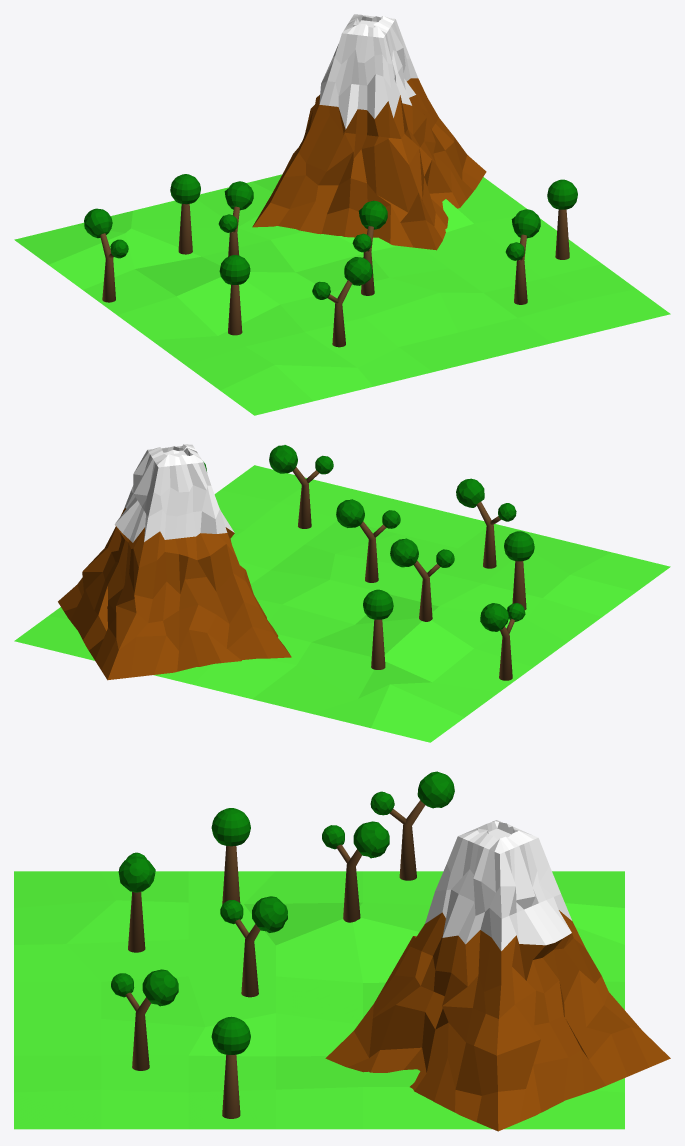
The picture shows the model from 3 angles, top to bottom: view 1: azimuth 30°, elevation 25°; view 2: azimuth 150°, elevation 25°; view 3: azimuth 270°, elevation 25°; orthographic projection. The views are drawn at different scales.
Parts seen in each view (by area): view 1: Plane, Cube, Cylinder.003, Cylinder, Cylinder.006, Cylinder.004, Cylinder.001, Cylinder.005, Cylinder.007, Cylinder.002; view 2: Plane, Cube, Cylinder.006, Cylinder.007, Cylinder.003, Cylinder.002, Cylinder, Cylinder.001, Cylinder.004; view 3: Plane, Cube, Cylinder, Cylinder.006, Cylinder.007, Cylinder.002, Cylinder.005, Cylinder.004, Cylinder.003.
Part boxes in pixels (x1,y1,x2,y2): Plane: [14, 174, 670, 415]; Cube: [252, 14, 486, 250]; Cylinder.003: [312, 257, 372, 347]; Cylinder: [84, 208, 128, 302]; Cylinder.006: [505, 209, 540, 304]; Cylinder.004: [219, 255, 250, 335]; Cylinder.001: [170, 174, 200, 254]; Cylinder.005: [547, 179, 577, 259]; Cylinder.007: [352, 200, 387, 295]; Cylinder.002: [218, 181, 253, 256]; Plane: [14, 465, 670, 742]; Cube: [58, 444, 291, 680]; Cylinder.006: [269, 445, 333, 528]; Cylinder.007: [336, 499, 400, 582]; Cylinder.003: [456, 478, 516, 568]; Cylinder.002: [390, 538, 454, 621]; Cylinder: [480, 603, 525, 680]; Cylinder.001: [363, 589, 393, 669]; Cylinder.004: [504, 531, 534, 610]; Plane: [14, 871, 624, 1129]; Cube: [325, 820, 670, 1131]; Cylinder: [370, 771, 454, 880]; Cylinder.006: [111, 969, 178, 1070]; Cylinder.007: [220, 896, 287, 997]; Cylinder.002: [322, 821, 389, 922]; Cylinder.005: [211, 1016, 250, 1118]; Cylinder.004: [211, 808, 250, 903]; Cylinder.003: [118, 852, 155, 952].
Bounding box in the file's own units: 2045 × 842 × 2151.
